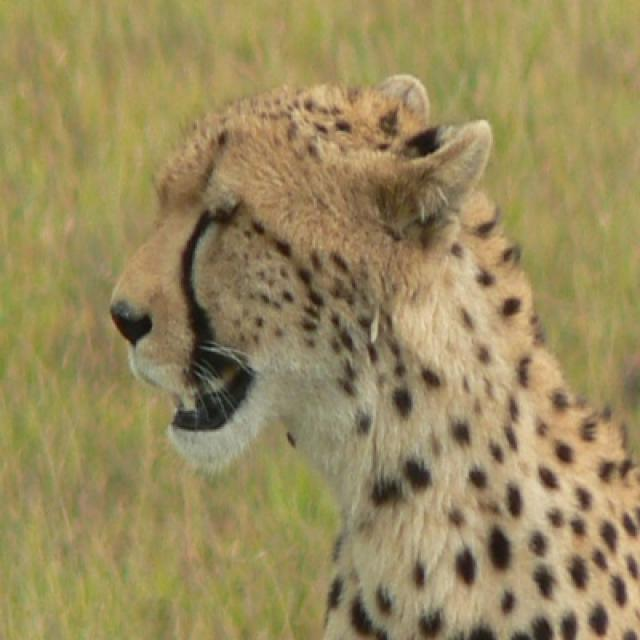Cheetah: (104, 70, 638, 638)
